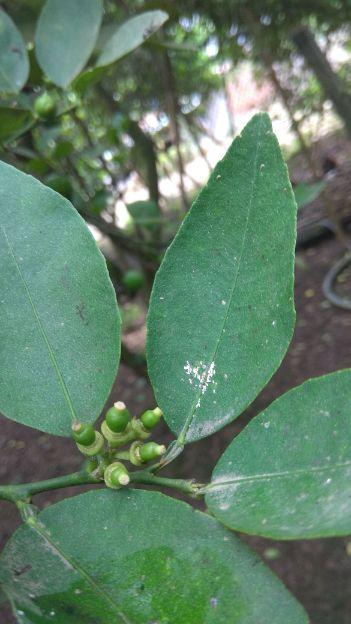Myzus persicae: (184, 361, 214, 393)
